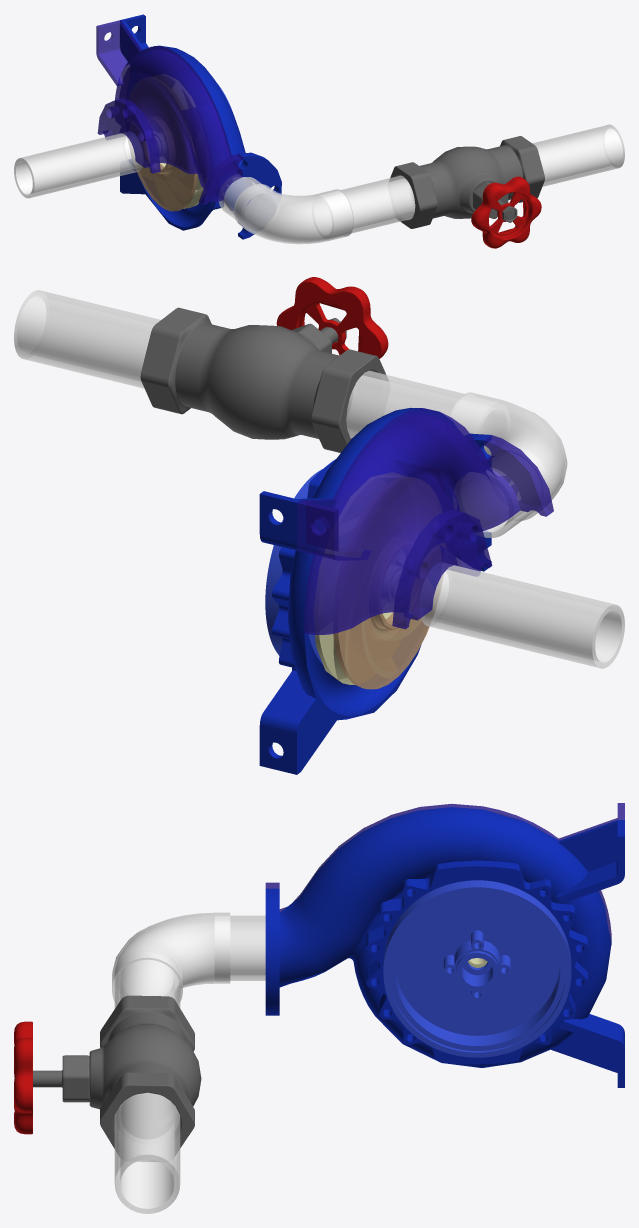
The model's file is bomba_centrifuga_menorcalidad.fbx.
3 renders of one model, top to bottom at view 1: azimuth 30°, elevation 25°; view 2: azimuth 150°, elevation 25°; view 3: azimuth 270°, elevation 25°, orthographic. The views are drawn at different scales.
Visible parts, largest first — view 1: Cañerias Enteras, Bomba delantera, Bomba trasera, Vaálvula Estructura, Tapa Impulsor, Válvula, Impulsor; view 2: Bomba delantera, Cañerias Enteras, Bomba trasera, Vaálvula Estructura, Tapa Impulsor, Impulsor, Válvula, Tapa trasera; view 3: Bomba trasera, Tapa trasera, Cañerias Enteras, Vaálvula Estructura, Válvula, Bomba delantera.
Boxes of the visible parts, x1=… form: Cañerias Enteras: x1=14, y1=124, x2=624, y2=244; Bomba delantera: x1=96, y1=20, x2=242, y2=204; Bomba trasera: x1=120, y1=14, x2=281, y2=239; Vaálvula Estructura: x1=389, y1=136, x2=544, y2=228; Tapa Impulsor: x1=127, y1=78, x2=197, y2=211; Válvula: x1=471, y1=176, x2=541, y2=248; Impulsor: x1=140, y1=75, x2=206, y2=208; Bomba delantera: x1=297, y1=408, x2=553, y2=634; Cañerias Enteras: x1=14, y1=290, x2=624, y2=668; Bomba trasera: x1=259, y1=408, x2=491, y2=774; Vaálvula Estructura: x1=140, y1=307, x2=388, y2=452; Tapa Impulsor: x1=333, y1=477, x2=445, y2=689; Impulsor: x1=314, y1=473, x2=421, y2=684; Válvula: x1=276, y1=277, x2=388, y2=358; Tapa trasera: x1=265, y1=469, x2=366, y2=664; Bomba trasera: x1=265, y1=807, x2=624, y2=1087; Tapa trasera: x1=383, y1=880, x2=571, y2=1057; Cañerias Enteras: x1=112, y1=912, x2=265, y2=1213; Vaálvula Estructura: x1=33, y1=995, x2=201, y2=1161; Válvula: x1=14, y1=1021, x2=32, y2=1134; Bomba delantera: x1=265, y1=803, x2=624, y2=944.
Bounding box in the file's own units: 144 × 52.12 × 109.
